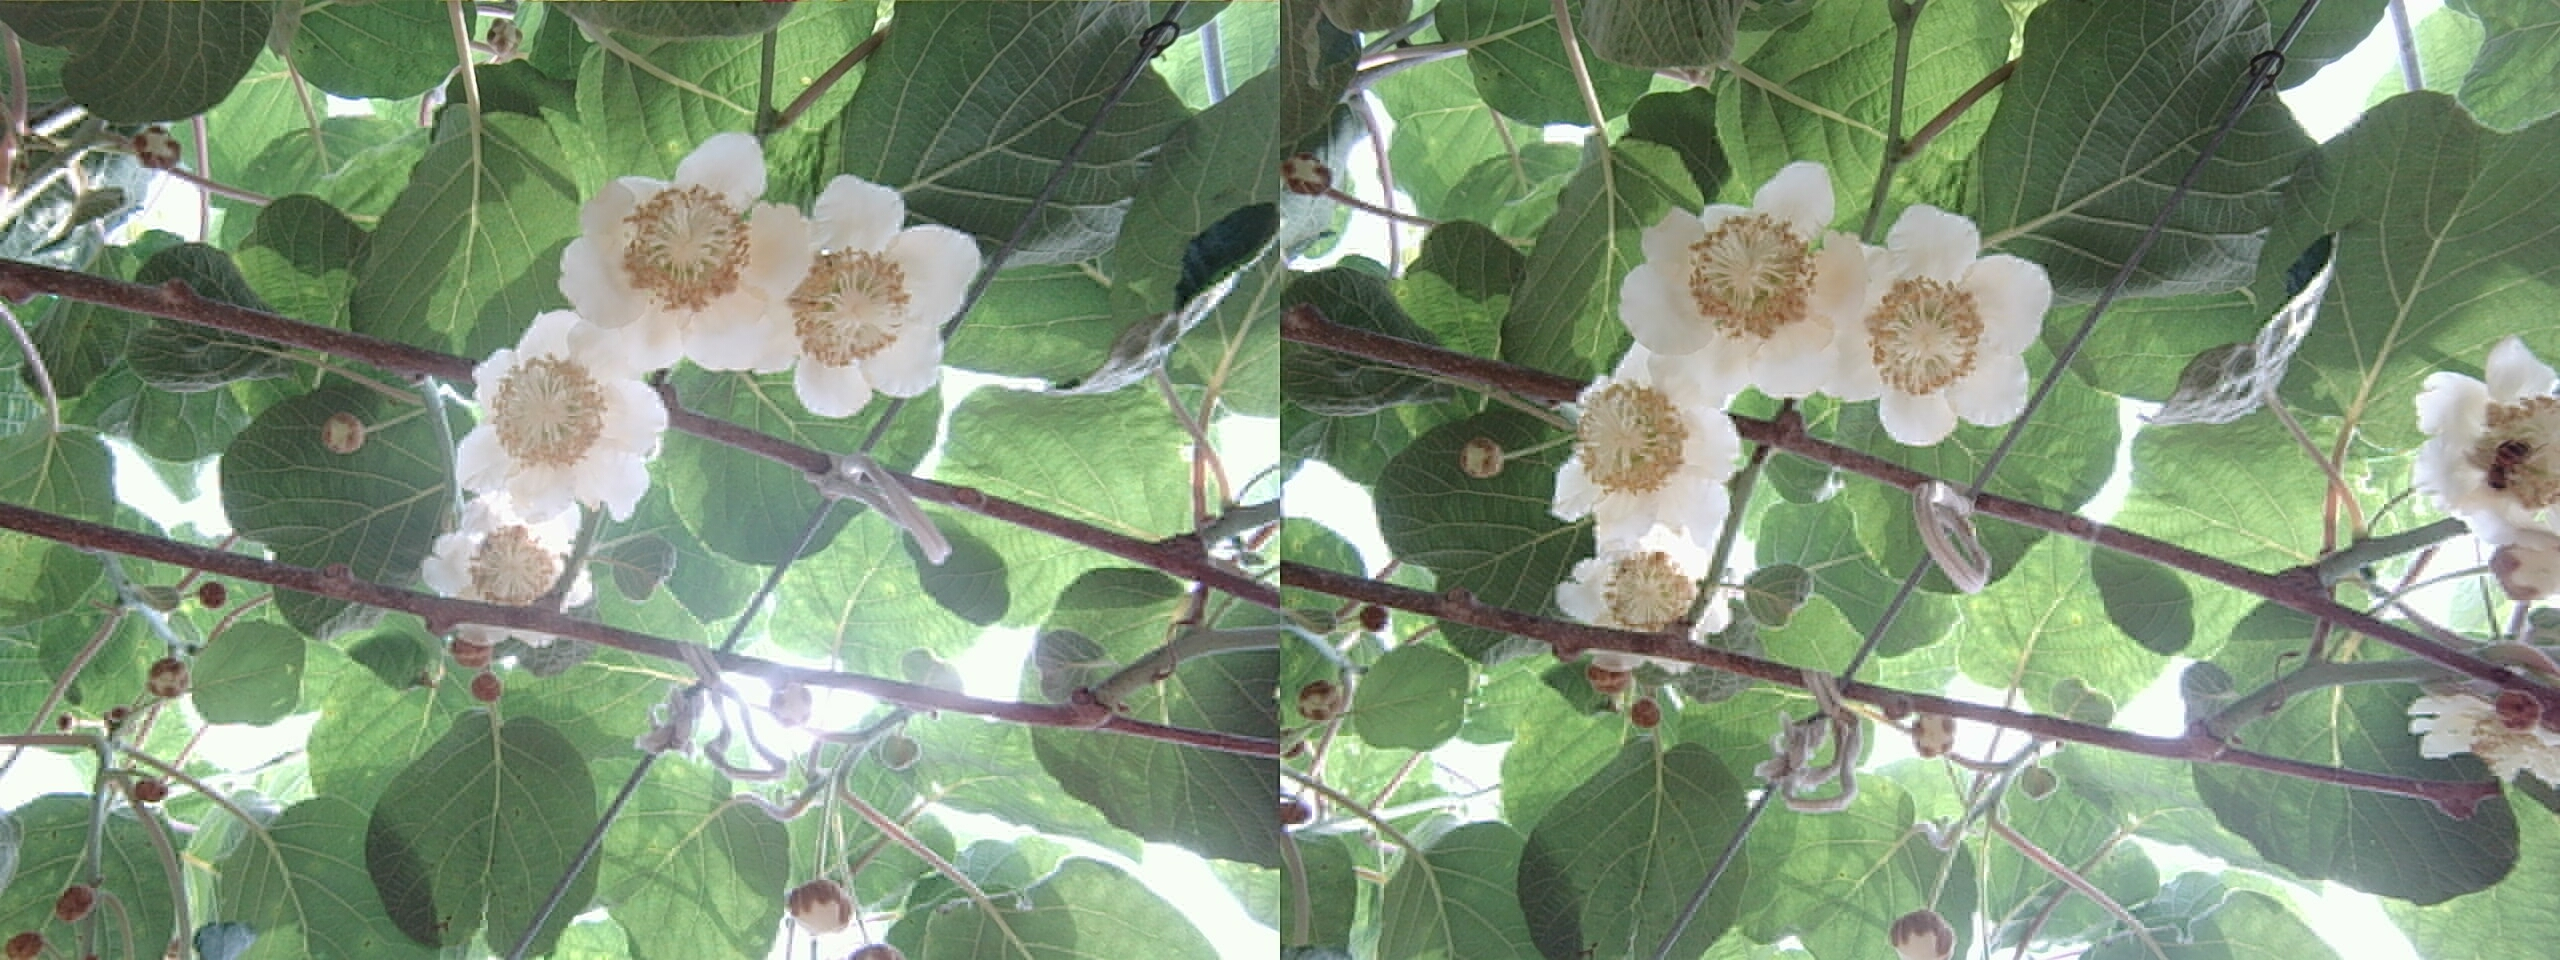flower: (1624, 163, 1855, 398), (563, 131, 793, 364), (1835, 199, 2044, 446), (446, 305, 674, 529), (748, 191, 971, 411), (1541, 353, 1740, 545), (2410, 333, 2558, 571)
